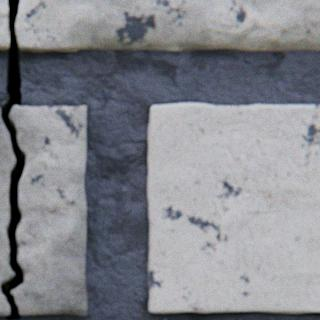brick: (147, 104, 319, 313)
broken_brick: (16, 0, 319, 53), (10, 107, 86, 315), (0, 118, 14, 315), (0, 0, 9, 51)
crack: (0, 0, 25, 319)
